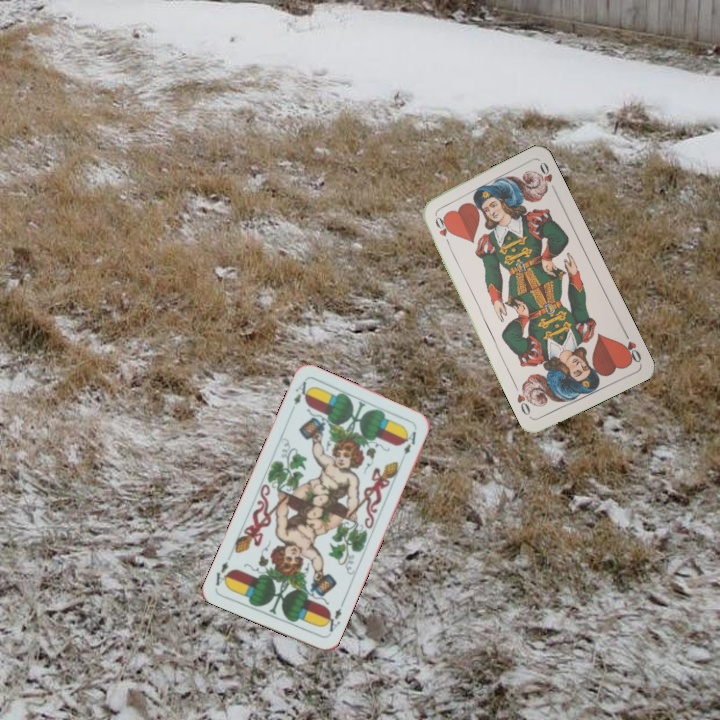EA: (320, 599, 346, 637), (290, 377, 312, 407)
HO: (618, 327, 644, 365), (431, 211, 453, 249)
